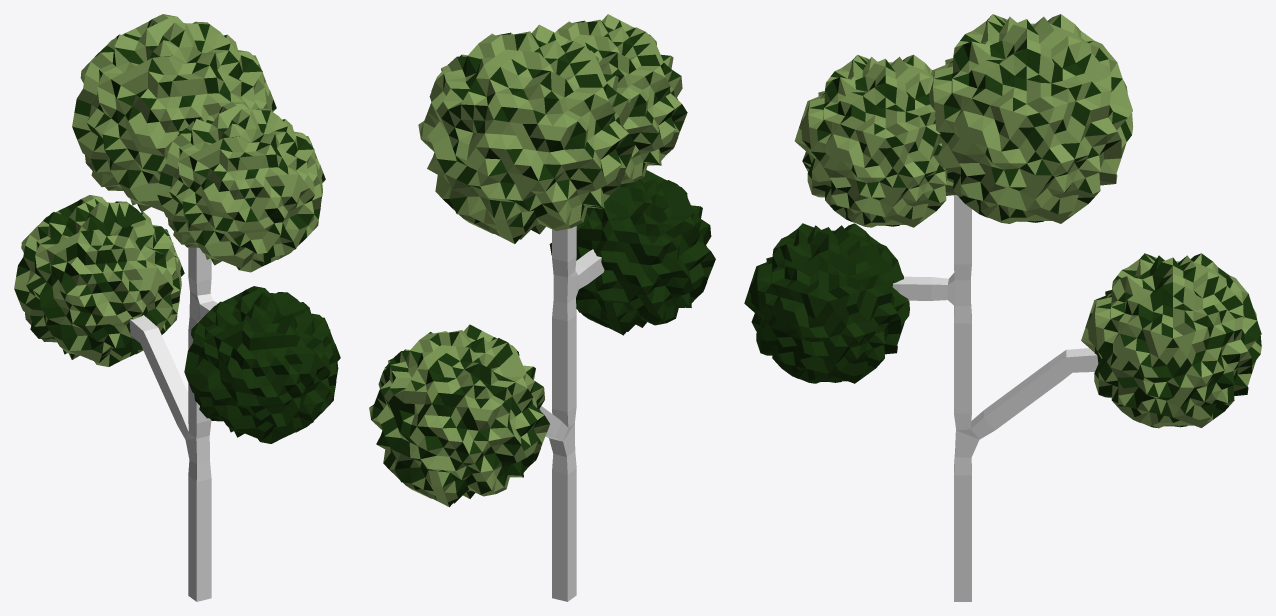
File: Circuito_Arboles 1.fbx
3 renders of one model, left to right at view 1: azimuth 30°, elevation 25°; view 2: azimuth 150°, elevation 25°; view 3: azimuth 270°, elevation 25°, orthographic. The views are drawn at different scales.
Parts seen in each view (by area): view 1: Icosphere.001, Icosphere.009, Icosphere.011, Icosphere.010, Cube; view 2: Icosphere.001, Icosphere.011, Icosphere.010, Cube, Icosphere.009; view 3: Icosphere.001, Icosphere.011, Icosphere.009, Icosphere.010, Cube.
Boxes of the visible parts, bbox=[...] form: Icosphere.001: bbox=[72, 14, 276, 212]; Icosphere.009: bbox=[157, 102, 325, 272]; Icosphere.011: bbox=[14, 195, 184, 366]; Icosphere.010: bbox=[184, 286, 340, 443]; Cube: bbox=[129, 247, 217, 601]; Icosphere.001: bbox=[418, 24, 635, 243]; Icosphere.011: bbox=[369, 324, 549, 507]; Icosphere.010: bbox=[549, 170, 715, 335]; Cube: bbox=[539, 226, 604, 601]; Icosphere.009: bbox=[555, 14, 687, 184]; Icosphere.001: bbox=[929, 14, 1133, 223]; Icosphere.011: bbox=[1081, 253, 1261, 428]; Icosphere.009: bbox=[794, 54, 956, 227]; Icosphere.010: bbox=[744, 223, 909, 383]; Cube: bbox=[892, 195, 1098, 601].
Size of the model in its own units: 349 by 1066 by 859.
